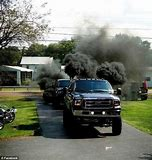smoke: (64, 39, 137, 79)
